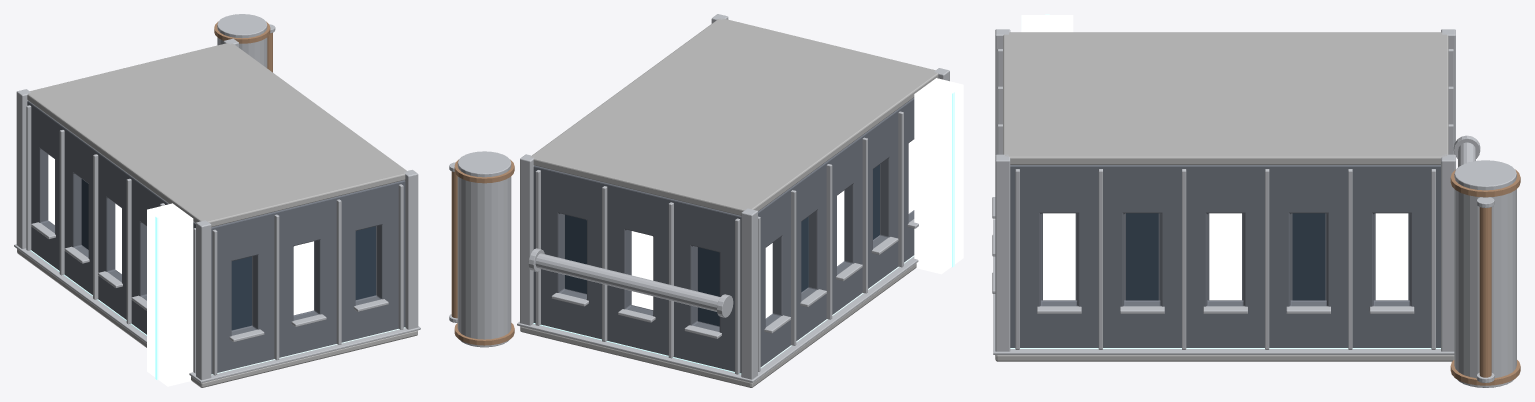
The model's file is svc_4x6.glb.
3 views of the same model, side by side, from view 1: azimuth 30°, elevation 25°; view 2: azimuth 150°, elevation 25°; view 3: azimuth 270°, elevation 25° (orthographic). The views are drawn at different scales.
Parts seen in each view (by area): view 1: int_ceiling, ext_wall, ext_frames, ext_lift, int_columns, ext_panes_dark, ext_panes_lit, int_slab_edge, int_slab, ext_svc_tower, ext_lift_glow, int_grid (+1 smaller); view 2: int_ceiling, ext_wall, ext_svc_tower, ext_frames, ext_lift, int_columns, ext_panes_dark, ext_panes_lit, ext_duct, int_slab_edge, int_slab, ext_svc_pipe (+4 smaller); view 3: ext_wall, int_ceiling, ext_svc_tower, ext_panes_lit, ext_frames, int_columns, ext_panes_dark, int_slab, int_slab_edge, ext_svc_pipe, ext_lift, ext_svc_ring2 (+1 smaller).
Boxes of the visible parts, x1,y1,x2,y2 form: int_ceiling: [27, 43, 408, 227]; ext_wall: [27, 101, 405, 374]; ext_frames: [26, 105, 403, 375]; ext_lift: [147, 203, 193, 386]; int_columns: [16, 38, 418, 380]; ext_panes_dark: [81, 179, 375, 330]; ext_panes_lit: [48, 154, 313, 315]; int_slab_edge: [14, 244, 420, 382]; int_slab: [17, 249, 417, 387]; ext_svc_tower: [217, 14, 267, 67]; ext_lift_glow: [155, 216, 158, 380]; int_grid: [30, 250, 405, 375]; int_ceiling: [530, 18, 938, 215]; ext_wall: [533, 97, 914, 373]; ext_svc_tower: [457, 151, 511, 347]; ext_frames: [535, 111, 918, 374]; ext_lift: [914, 78, 963, 274]; int_columns: [520, 14, 949, 379]; ext_panes_dark: [565, 164, 879, 326]; ext_panes_lit: [631, 139, 914, 318]; ext_duct: [535, 253, 720, 311]; int_slab_edge: [517, 256, 918, 382]; int_slab: [520, 263, 916, 387]; ext_svc_pipe: [451, 171, 457, 318]; ext_wall: [1010, 165, 1440, 347]; int_ceiling: [1003, 32, 1448, 164]; ext_svc_tower: [1454, 160, 1516, 387]; ext_panes_lit: [1043, 213, 1408, 300]; ext_frames: [992, 49, 1453, 349]; int_columns: [995, 29, 1455, 351]; ext_panes_dark: [1126, 213, 1325, 300]; int_slab: [995, 355, 1454, 361]; int_slab_edge: [993, 219, 1454, 354]; ext_svc_pipe: [1479, 207, 1491, 377]; ext_lift: [1021, 15, 1073, 32]; ext_svc_ring2: [1450, 169, 1520, 197].
Bounding box in the file's own units: 5.69 × 3 × 7.11.
